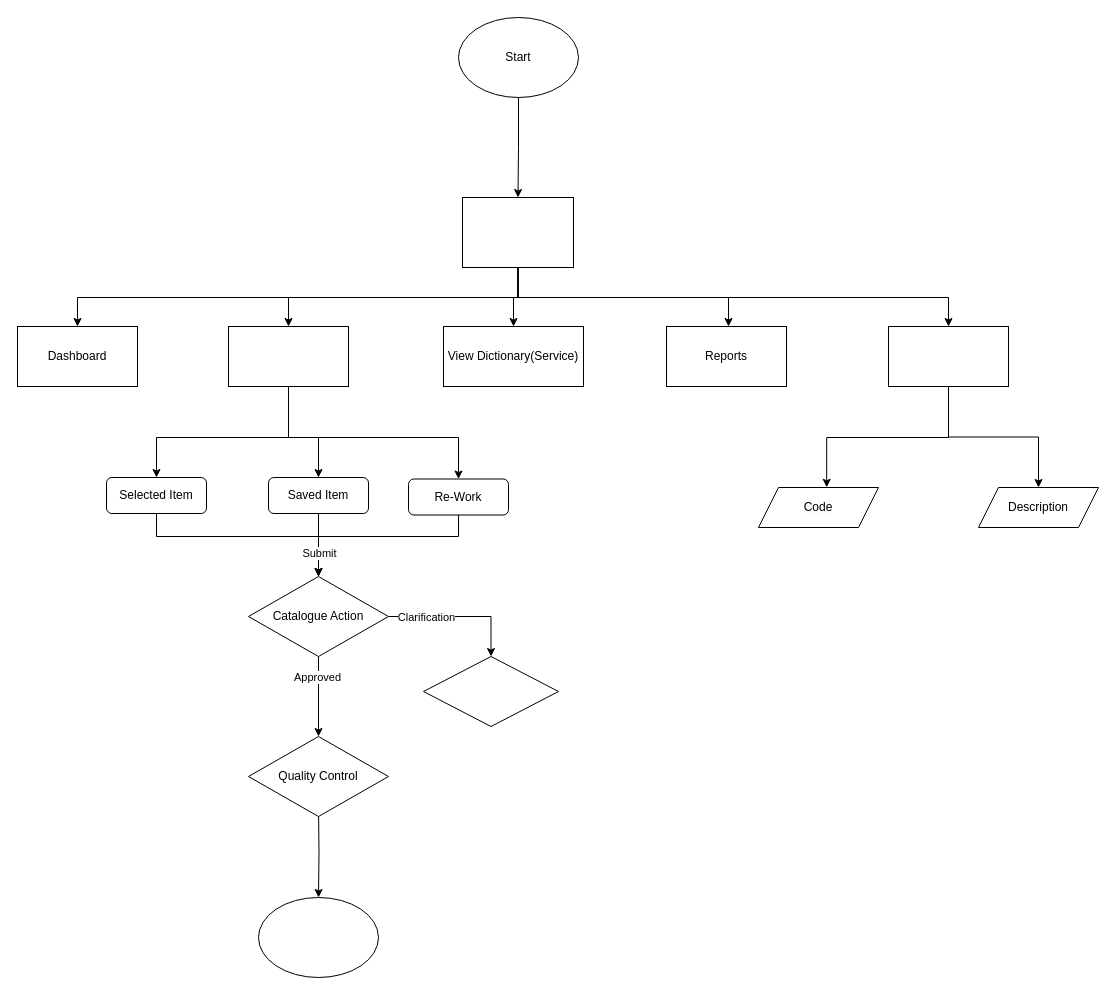
The diagram is 1116 pixels wide and 995 high, and some of its shapes have lost their labels. The shapes that lost their labels are listed below. From the top down, each one's centre as x and y in pixels, then its label:
At (x=518, y=232): "Service Cataloger Login".
At (x=288, y=356): "Catalogue Item".
At (x=948, y=356): "Service Search".
At (x=490, y=691): "Requester".
At (x=318, y=937): "End".
